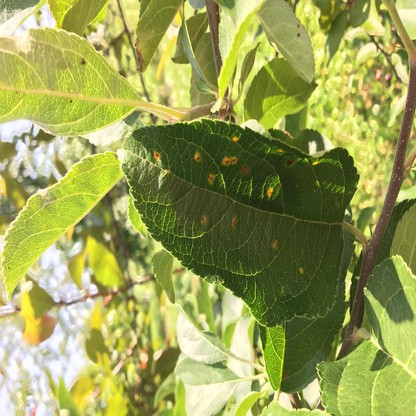rust: (221, 156, 236, 166), (152, 149, 161, 159), (230, 214, 236, 226), (240, 166, 248, 175), (286, 159, 295, 167), (272, 239, 279, 248), (208, 174, 213, 184), (194, 151, 200, 159), (268, 187, 273, 195), (299, 265, 304, 273), (200, 215, 205, 223), (232, 136, 238, 141), (311, 160, 317, 165), (277, 148, 283, 152)
